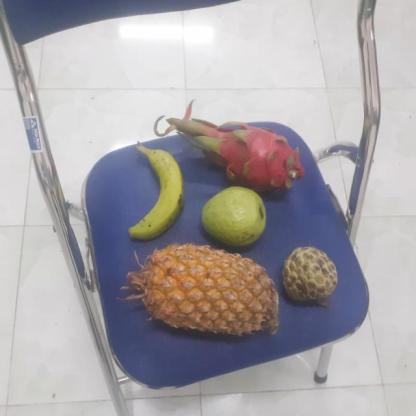annona: (279, 246, 339, 303)
banana: (124, 148, 185, 242)
guava: (198, 185, 268, 246)
pineapple: (134, 243, 276, 339)
pitaya: (182, 119, 302, 196)
